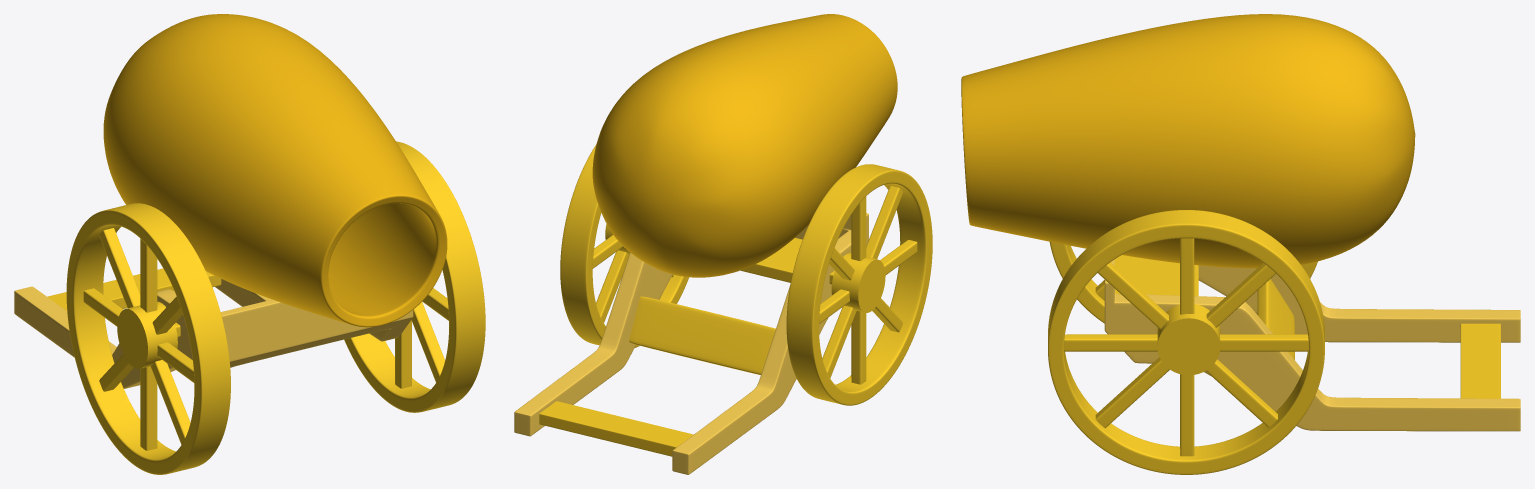
File: Canon.glb
3 views of the same model, side by side, from view 1: azimuth 30°, elevation 25°; view 2: azimuth 150°, elevation 25°; view 3: azimuth 270°, elevation 25° (orthographic). The views are drawn at different scales.
Parts seen in each view (by area): view 1: pCylinder5, pCylinder9, pCylinder6, pCube3, pCube14, pCube15, pCylinder8, pCube13, pCube16, pCube12, pCube6, pCube9; view 2: pCylinder5, pCylinder9, pCube3, pCube8, pCylinder6, pCube6, pCube16, pCylinder8, pCube15, pCube7, pCube13, pCube11 (+2 smaller); view 3: pCylinder5, pCube3, pCylinder6, pCylinder7, pCube10, pCube6, pCube12, pCube11, pCube9, pCube7, pCube8, pCylinder9.
Part boxes in pixels (x1=…): pCylinder5: x1=103, y1=14, x2=447, y2=327; pCylinder9: x1=66, y1=203, x2=230, y2=474; pCylinder6: x1=344, y1=141, x2=485, y2=412; pCube3: x1=14, y1=279, x2=413, y2=388; pCube14: x1=99, y1=228, x2=190, y2=444; pCube15: x1=140, y1=239, x2=157, y2=450; pCylinder8: x1=117, y1=301, x2=177, y2=368; pCube13: x1=83, y1=288, x2=194, y2=382; pCube16: x1=99, y1=296, x2=182, y2=391; pCube12: x1=411, y1=302, x2=444, y2=382; pCube6: x1=47, y1=268, x2=221, y2=310; pCube9: x1=395, y1=320, x2=411, y2=388; pCylinder5: x1=592, y1=14, x2=897, y2=277; pCylinder9: x1=786, y1=164, x2=932, y2=405; pCube3: x1=514, y1=213, x2=868, y2=474; pCube8: x1=629, y1=296, x2=775, y2=374; pCylinder6: x1=560, y1=144, x2=688, y2=347; pCube6: x1=539, y1=401, x2=693, y2=456; pCube16: x1=822, y1=186, x2=903, y2=377; pCylinder8: x1=831, y1=253, x2=885, y2=312; pCube15: x1=851, y1=196, x2=866, y2=384; pCube7: x1=740, y1=238, x2=802, y2=282; pCube13: x1=819, y1=240, x2=917, y2=323; pCube11: x1=596, y1=250, x2=628, y2=322; pCylinder5: x1=961, y1=14, x2=1415, y2=268; pCube3: x1=1104, y1=259, x2=1520, y2=431; pCylinder6: x1=1048, y1=210, x2=1324, y2=474; pCylinder7: x1=1157, y1=304, x2=1220, y2=375; pCube10: x1=1064, y1=334, x2=1308, y2=351; pCube6: x1=1460, y1=323, x2=1500, y2=398; pCube12: x1=1095, y1=263, x2=1275, y2=428; pCube11: x1=1098, y1=262, x2=1277, y2=427; pCube9: x1=1180, y1=238, x2=1194, y2=456; pCube7: x1=1114, y1=255, x2=1198, y2=296; pCube8: x1=1257, y1=279, x2=1294, y2=359; pCylinder9: x1=1049, y1=242, x2=1317, y2=323.
Bounding box in the file's own units: 8.33 × 10.37 × 13.87.
